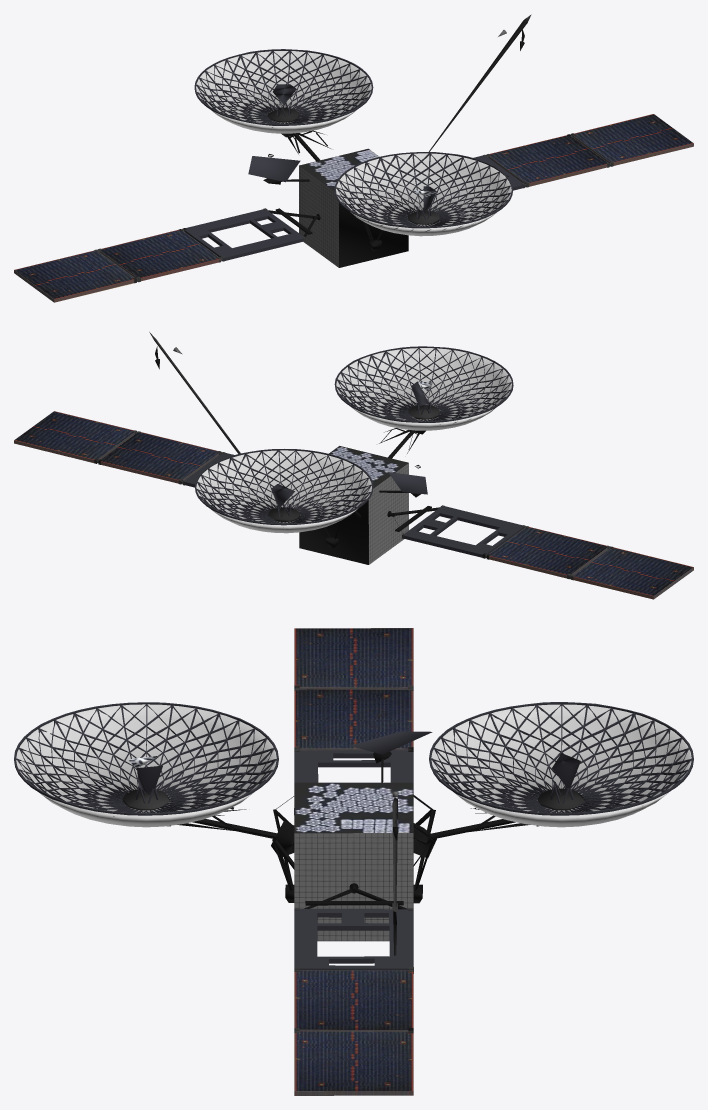
The model's file is tdrs.glb.
The picture shows the model from 3 angles, top to bottom: view 1: azimuth 30°, elevation 25°; view 2: azimuth 150°, elevation 25°; view 3: azimuth 270°, elevation 25°; orthographic projection. The views are drawn at different scales.
Visible parts, largest first — view 1: tex_01, tex_02, black_krinkle, foil_silver; view 2: tex_01, tex_02, black_krinkle, foil_silver; view 3: tex_01, tex_02, black_krinkle, foil_silver.
Boxes of the visible parts, bbox=[...] form: tex_01: bbox=[14, 49, 693, 302]; tex_02: bbox=[196, 51, 511, 236]; black_krinkle: bbox=[263, 29, 524, 267]; foil_silver: bbox=[94, 14, 613, 283]; tex_01: bbox=[14, 346, 693, 599]; tex_02: bbox=[196, 348, 511, 533]; black_krinkle: bbox=[155, 346, 439, 564]; foil_silver: bbox=[94, 332, 613, 580]; tex_01: bbox=[14, 628, 693, 1095]; tex_02: bbox=[16, 704, 691, 827]; black_krinkle: bbox=[167, 751, 538, 909]; foil_silver: bbox=[122, 685, 585, 1033].
Bounding box in the file's own units: 21.12 × 5.59 × 13.11.
Materials: 4 (3 with a texture image).
